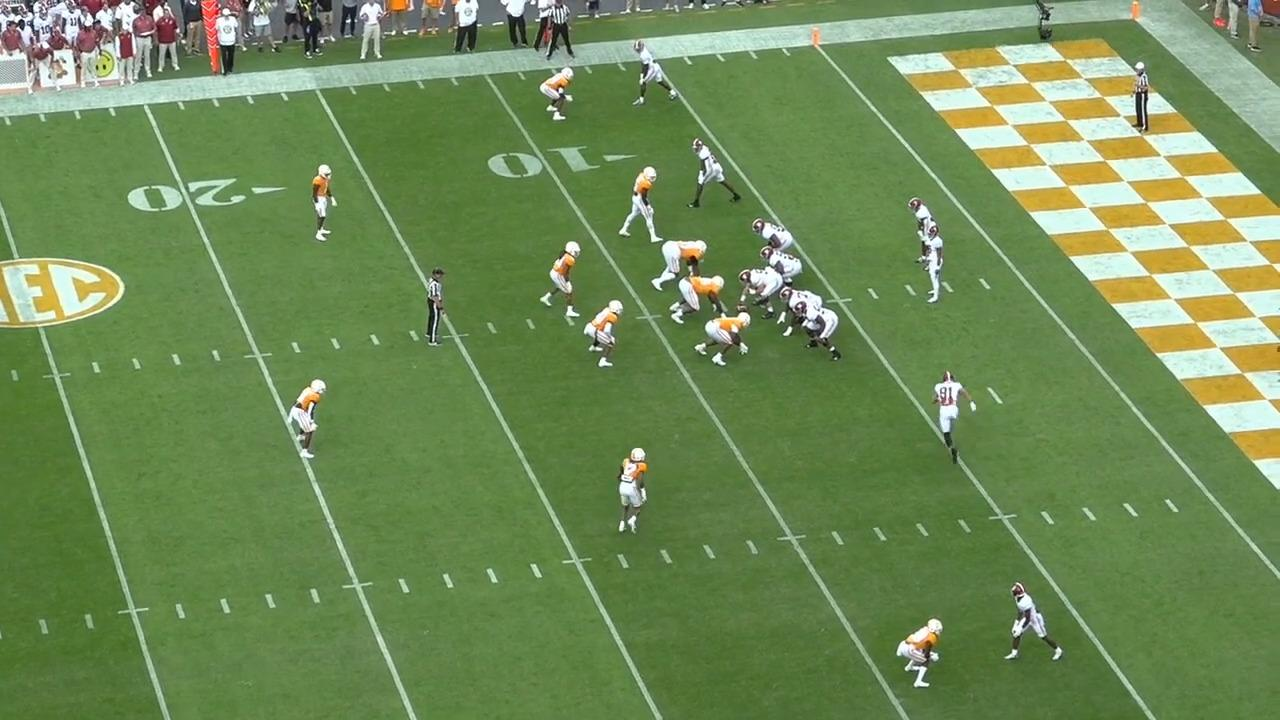defense: (543, 240, 590, 322), (896, 614, 946, 691), (622, 164, 667, 244), (619, 446, 655, 540), (697, 312, 757, 368), (284, 375, 323, 461), (652, 237, 712, 292), (669, 274, 728, 327), (587, 299, 627, 375), (305, 160, 338, 247), (544, 66, 580, 124)
oline: (798, 302, 846, 364), (735, 268, 786, 321), (781, 289, 827, 342), (761, 246, 806, 290), (754, 217, 801, 257)
qb: (919, 219, 950, 307)
ref: (417, 265, 447, 350), (539, 0, 574, 63), (1132, 57, 1155, 132)
skill: (1004, 579, 1071, 665), (931, 370, 974, 469), (693, 139, 748, 214), (632, 39, 685, 107), (903, 198, 930, 273)
